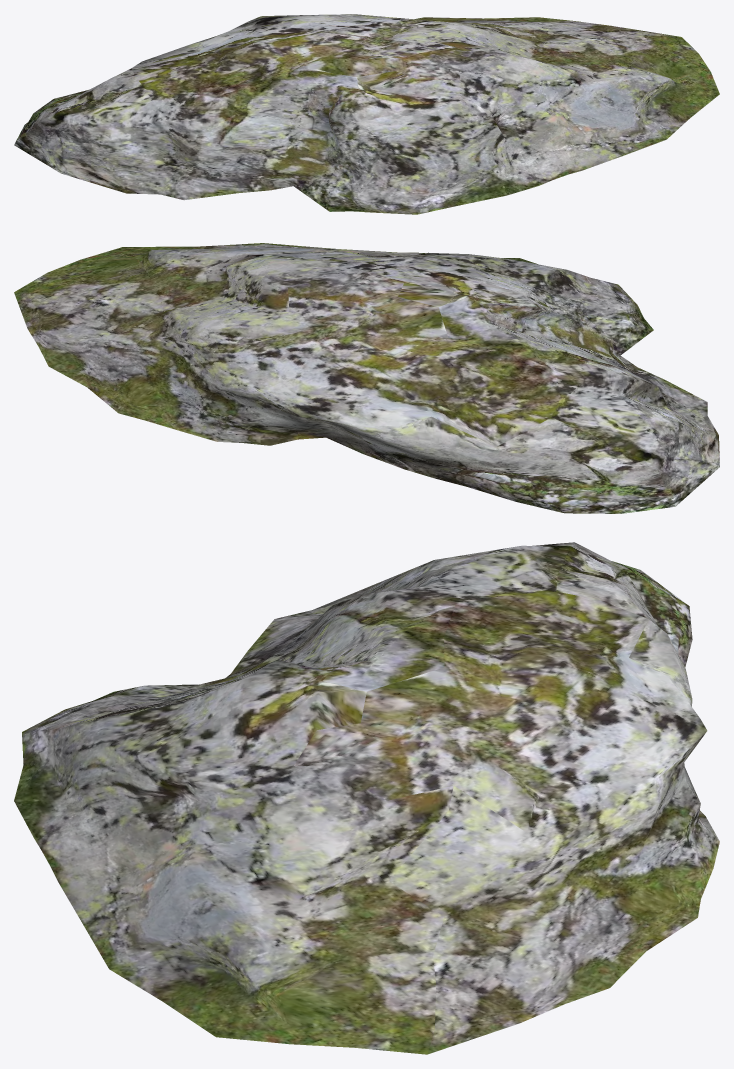
Rendered from Mossy_Slab_5.glb.
3 renders of one model, top to bottom at view 1: azimuth 30°, elevation 25°; view 2: azimuth 150°, elevation 25°; view 3: azimuth 270°, elevation 25°, orthographic. The views are drawn at different scales.
Visible parts, largest first — view 1: Mossy_Slab_5; view 2: Mossy_Slab_5; view 3: Mossy_Slab_5.
Part boxes in pixels (bbox=[...]): Mossy_Slab_5: bbox=[14, 14, 719, 214]; Mossy_Slab_5: bbox=[14, 243, 719, 513]; Mossy_Slab_5: bbox=[14, 542, 719, 1054].
Size of the model in its own units: 1.67 by 0.16 by 1.03.
1 material, 1 textured.
